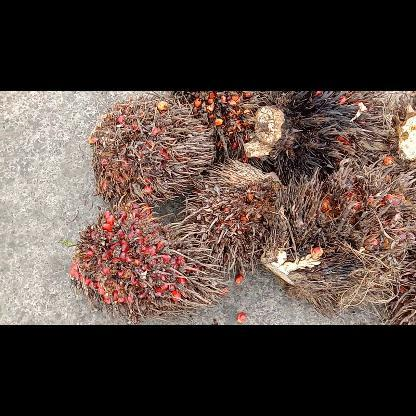Terlalu masak: (261, 160, 415, 312), (68, 199, 224, 321), (90, 95, 212, 203), (244, 91, 384, 181), (180, 160, 286, 274), (170, 90, 272, 170)
